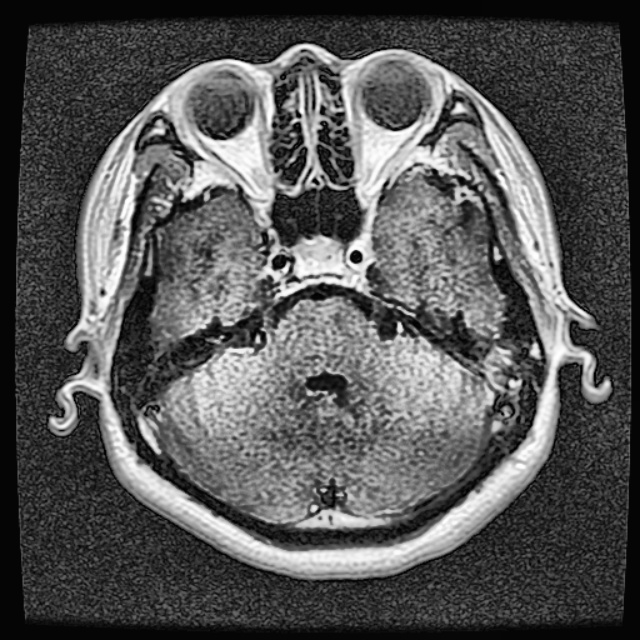Pituitary: (293, 238, 344, 275)
